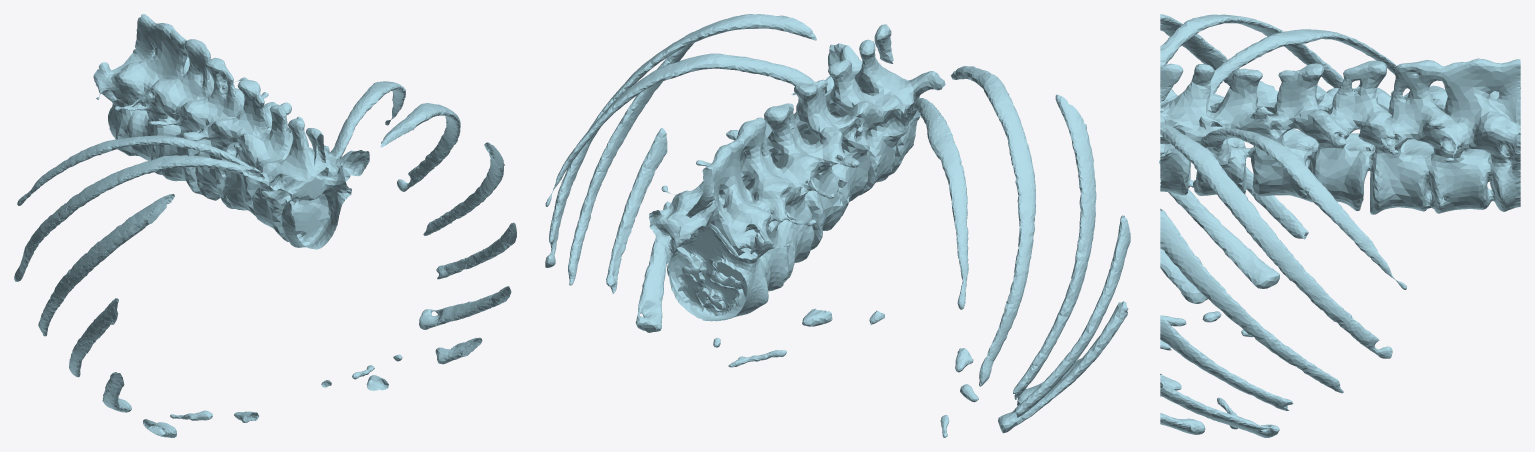
Rendered from bone.obj.
3 views of the same model, side by side, from view 1: azimuth 30°, elevation 25°; view 2: azimuth 150°, elevation 25°; view 3: azimuth 270°, elevation 25° (orthographic). The views are drawn at different scales.
Visible parts, largest first — view 1: grp1; view 2: grp1; view 3: grp1.
Part boxes in pixels (<box>): grp1: <box>14,14,516,437</box>; grp1: <box>545,14,1130,437</box>; grp1: <box>1159,14,1520,437</box>.
Bounding box in the file's own units: 288 × 196 × 198.
